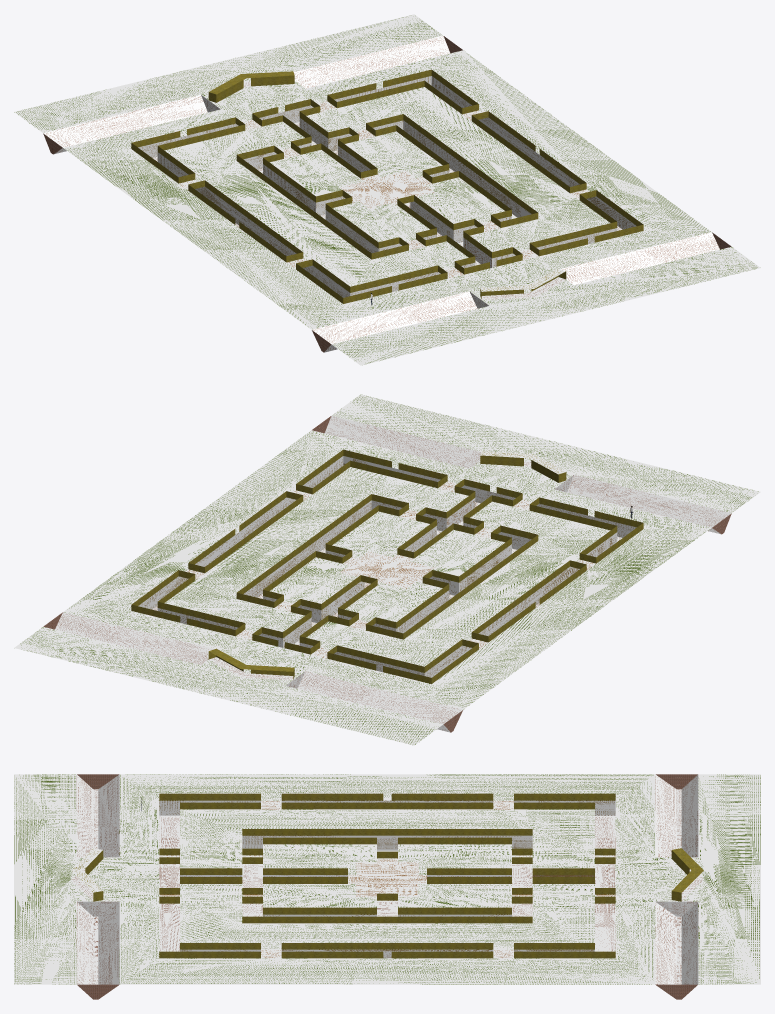
3 views of the same model, one above another, from view 1: azimuth 30°, elevation 25°; view 2: azimuth 150°, elevation 25°; view 3: azimuth 270°, elevation 25° (orthographic). The views are drawn at different scales.
Visible parts, largest first — view 1: SketchUp (×29); view 2: SketchUp (×29); view 3: SketchUp (×30).
Part boxes in pixels (<box>): SketchUp (×29): <box>14,14,760,365</box>; SketchUp (×29): <box>14,394,760,745</box>; SketchUp (×30): <box>14,774,760,999</box>.
Bounding box in the file's own units: 2362 × 3543 × 148.
Materials: 15 (5 with a texture image).
